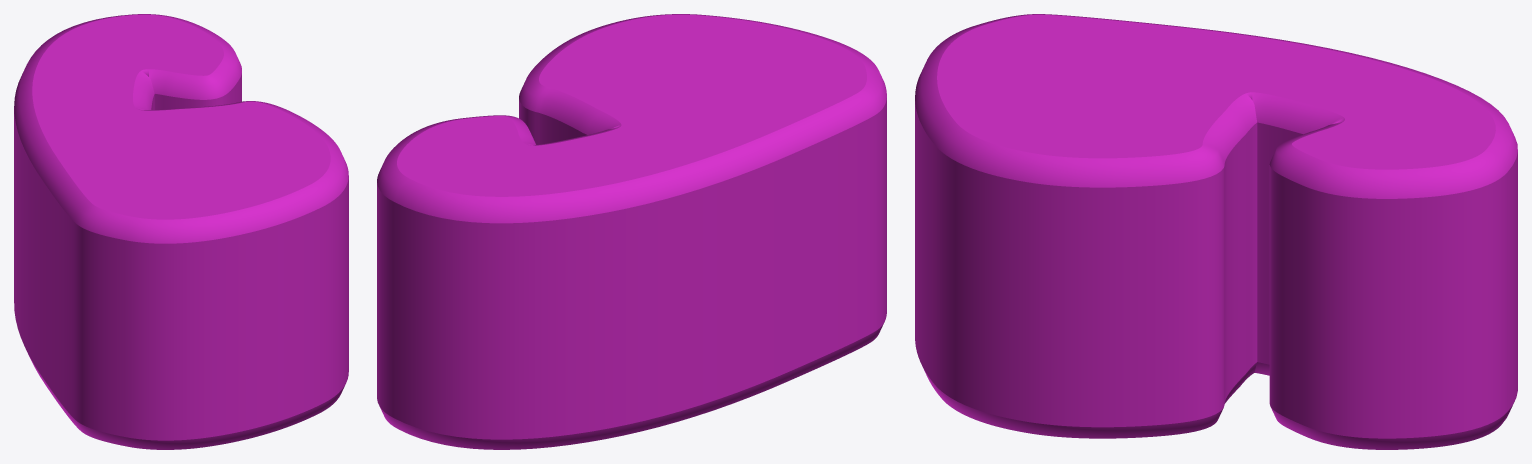
Rendered from Bubble_Comma.fbx.
The picture shows the model from 3 angles, left to right: view 1: azimuth 30°, elevation 25°; view 2: azimuth 150°, elevation 25°; view 3: azimuth 270°, elevation 25°; orthographic projection. The views are drawn at different scales.
Parts seen in each view (by area): view 1: BubbleComma; view 2: BubbleComma; view 3: BubbleComma.
Part boxes in pixels (x1,y1,x2,y2): BubbleComma: [14, 14, 348, 449]; BubbleComma: [377, 14, 886, 449]; BubbleComma: [915, 14, 1517, 449].
Bounding box in the file's own units: 0.1864 × 0.14 × 0.2736.
